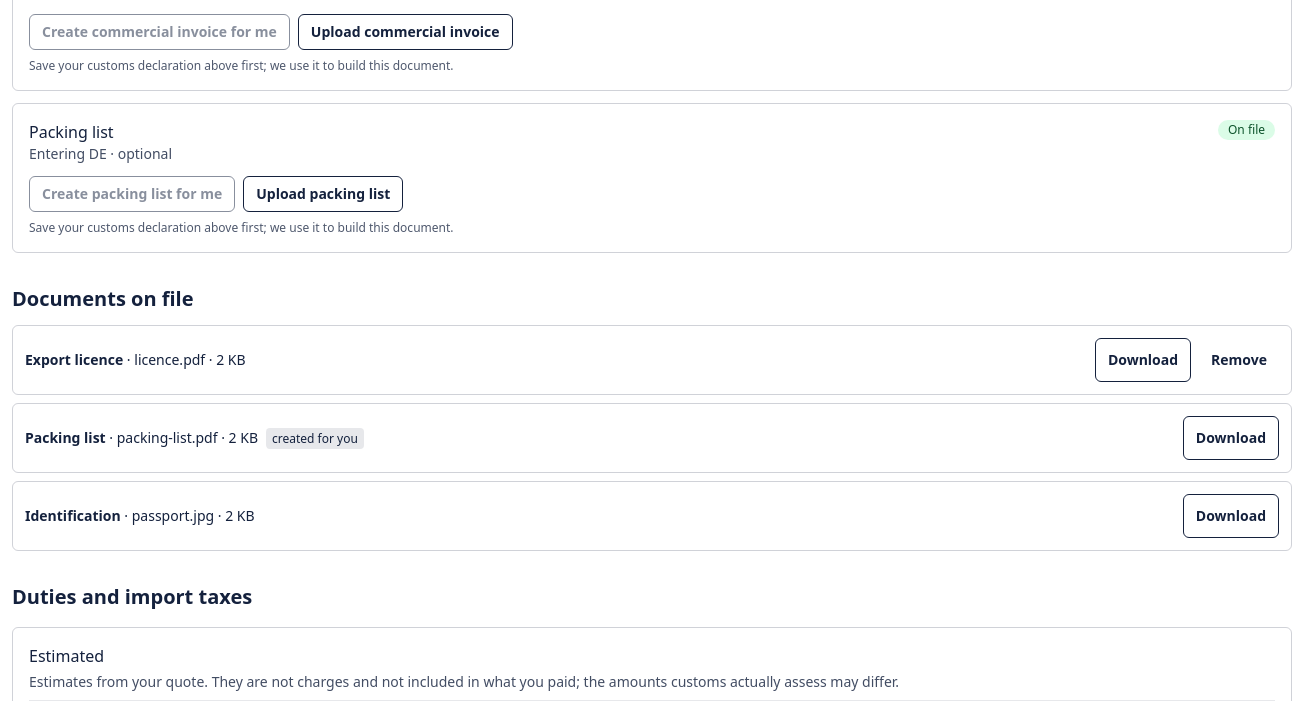
Test case: CustomsScreen › removing an uploaded document › explains it when the shipment has meanwhile reached customs
(page scrolled)
What coordinates should you click on to do the following:
click the button named "Remove licence.pdf"
I would click on:
 (1239, 360)
Its box is top-left (1199, 338), bottom-right (1279, 382).
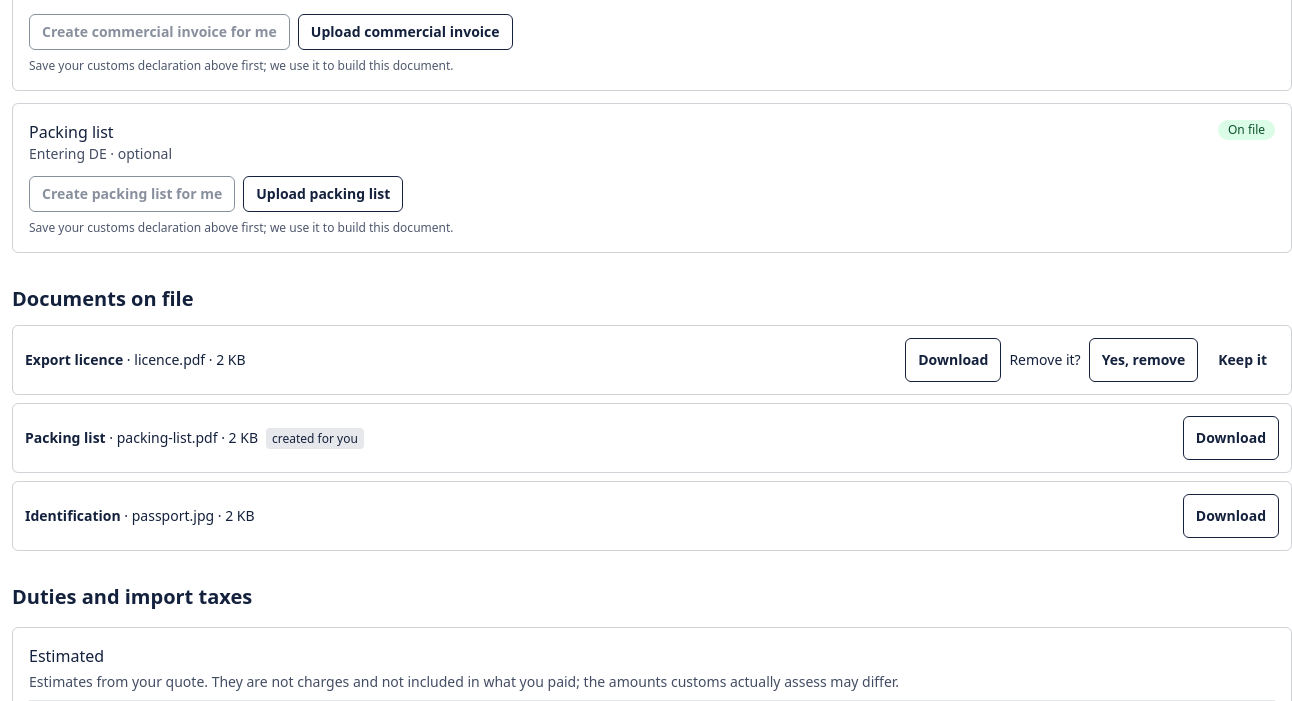
What coordinates should you click on to do the following:
click the button "Yes, remove"
I would click on:
 (1144, 360)
Its box is top-left (1089, 338), bottom-right (1198, 382).
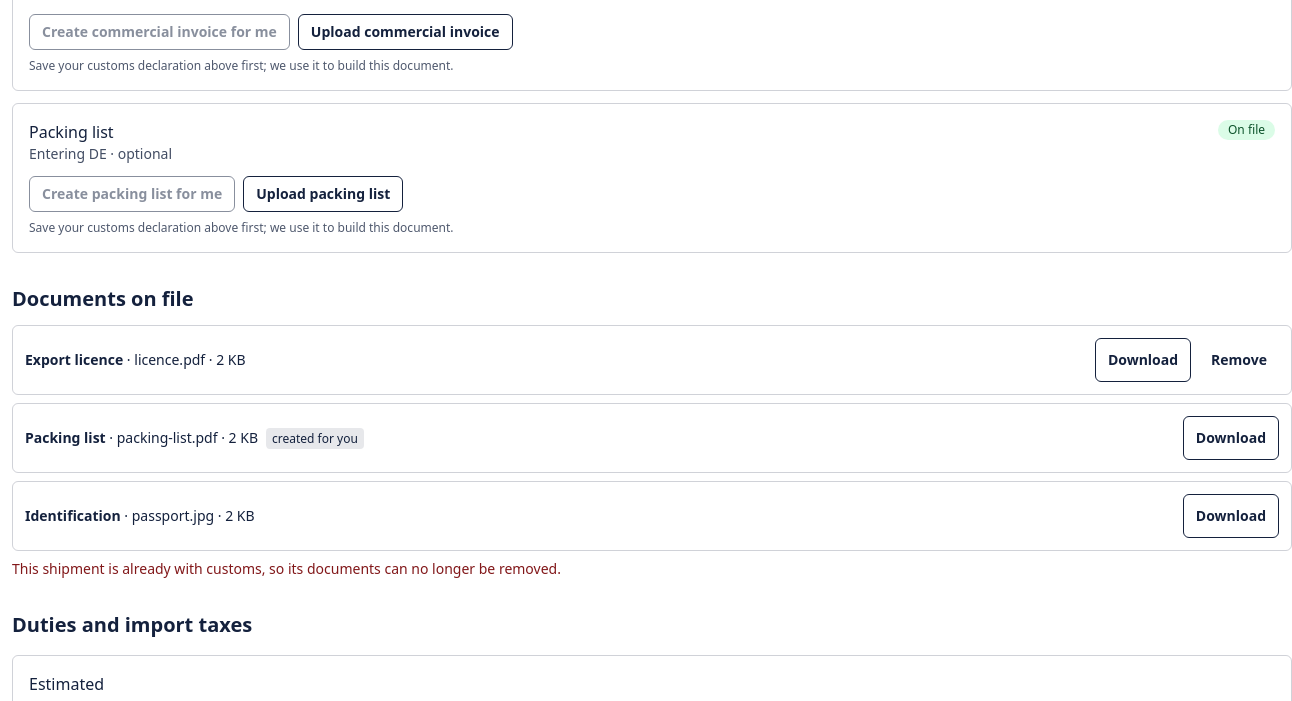
Check: the message shows "already with customs", box top-left (12, 559), bottom-right (561, 578)
